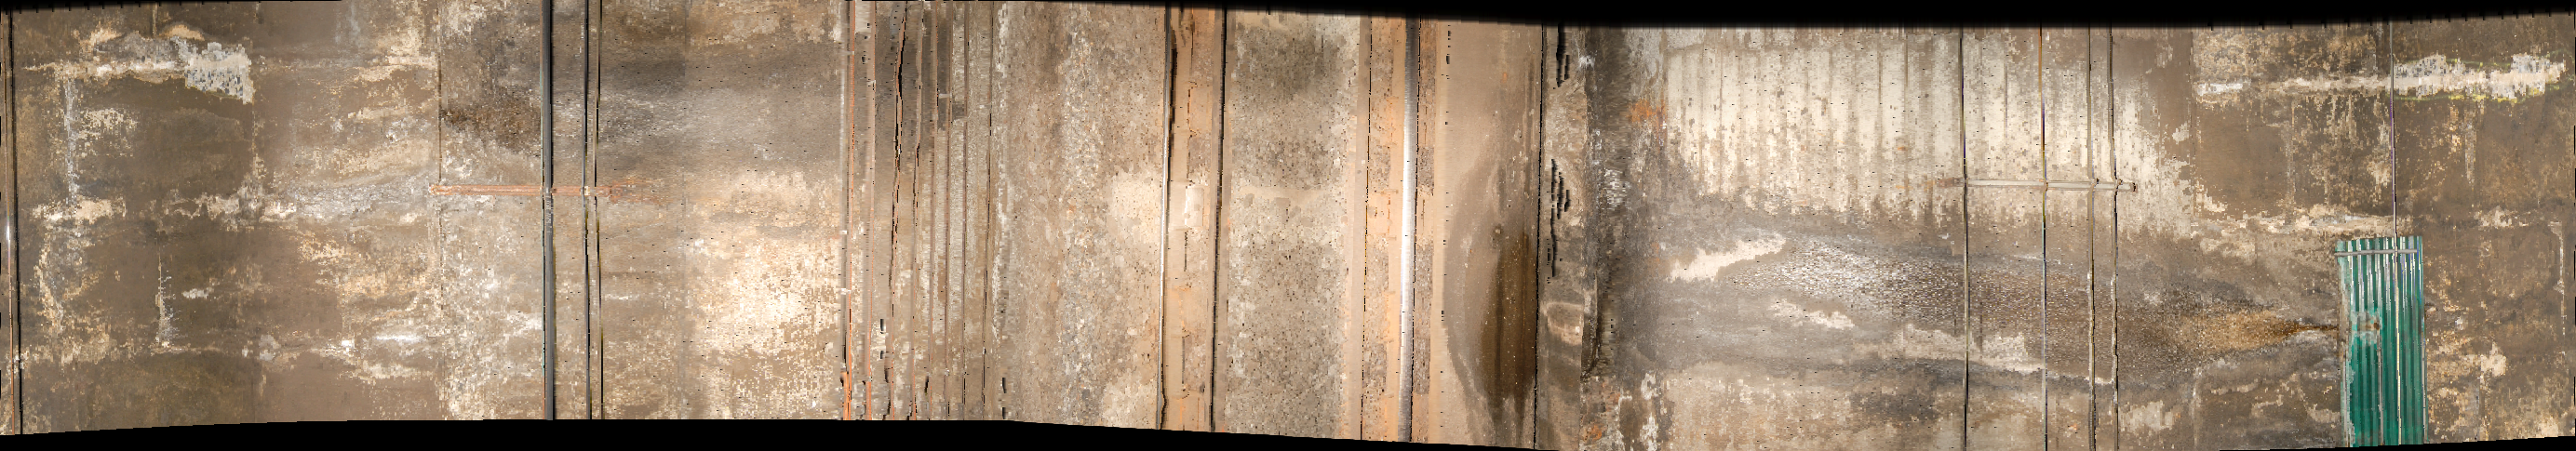green cables: (2341, 236, 2427, 451)
pipes: (830, 8, 1009, 451), (1944, 33, 2127, 451), (532, 2, 613, 421)
tracks: (1160, 5, 1536, 451)
